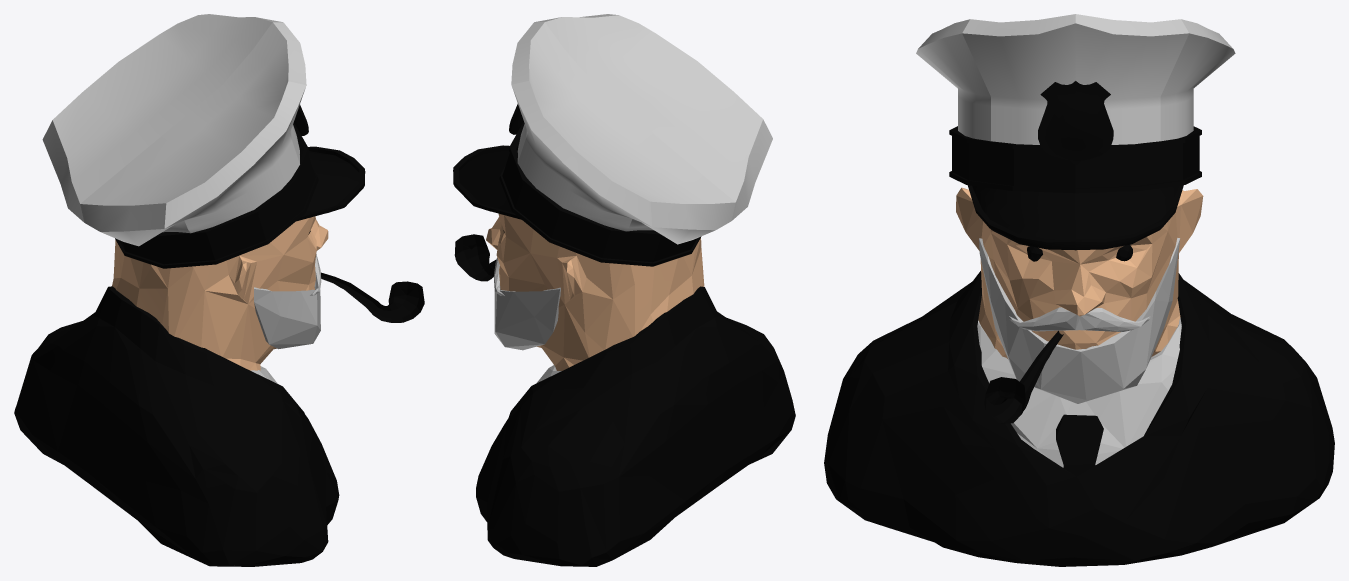
The model's file is captain.glb.
3 views of the same model, side by side, from view 1: azimuth 30°, elevation 25°; view 2: azimuth 150°, elevation 25°; view 3: azimuth 270°, elevation 25° (orthographic). The views are drawn at different scales.
Parts seen in each view (by area): view 1: Line002.001; view 2: Line002.001; view 3: Line002.001.
Boxes of the visible parts, box(x1,y1,x2,y2) form: Line002.001: box(14, 14, 424, 566); Line002.001: box(453, 14, 795, 566); Line002.001: box(824, 14, 1334, 566).
Size of the model in its own units: 1.12 by 1.59 by 1.36.
Materials: 1 (1 with a texture image).
